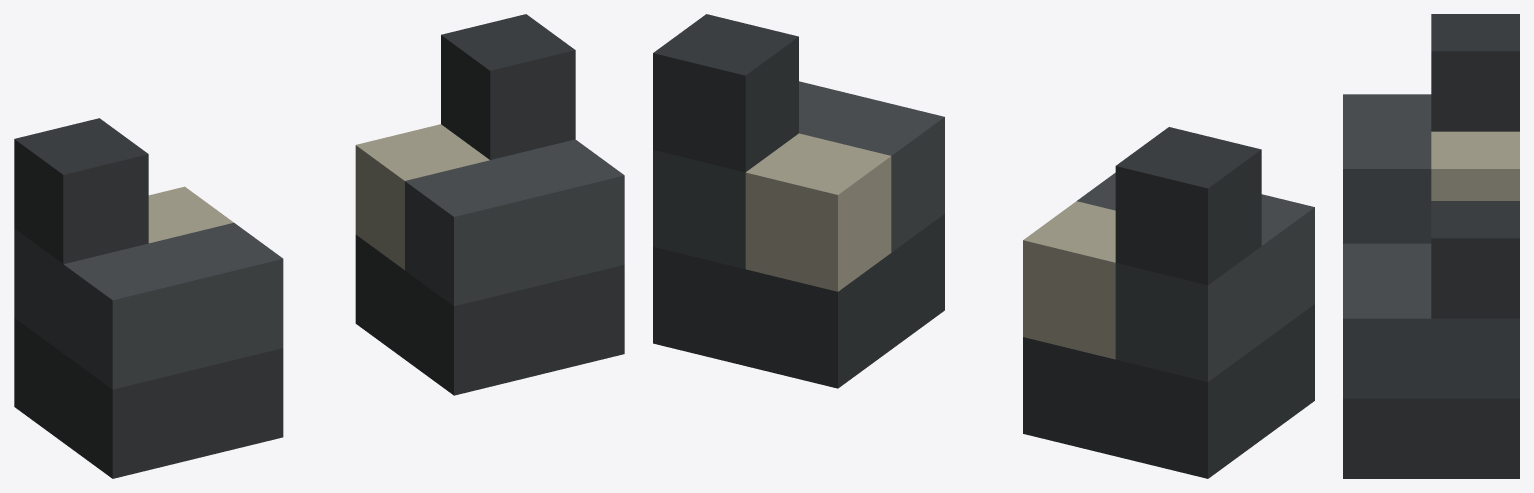
Rendered from ears.glb.
3 views of the same model, side by side, from view 1: azimuth 30°, elevation 25°; view 2: azimuth 150°, elevation 25°; view 3: azimuth 270°, elevation 25° (orthographic). The views are drawn at different scales.
Parts seen in each view (by area): view 1: ears; view 2: ears; view 3: ears.
Boxes of the visible parts, x1,y1,x2,y2 form: ears: (14, 14, 624, 478); ears: (653, 14, 1314, 478); ears: (1343, 14, 1519, 478).
Size of the model in its own units: 0.75 by 0.375 by 0.25.
